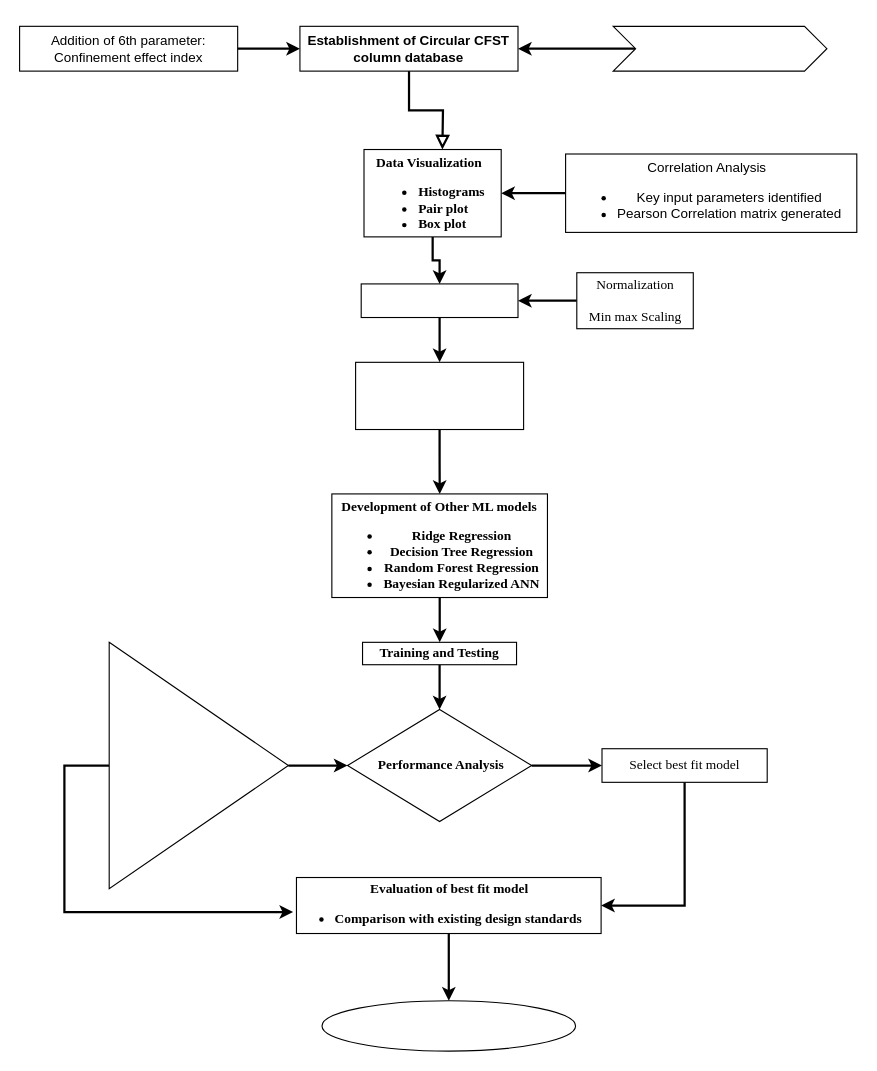
Image size: 877x1071. Some labels were removed from this diagram. Here are the shapes that lost their labels. From the top down, the centre of each, then its label:
the point at 719,48: 1202 samples collected 5 input parameters
the point at 439,300: Database Pre processing
the point at 439,395: Naive model created Linear Regression model
the point at 198,765: Evaluation indices RMSE R2 score Residual plots
the point at 448,1025: Develop equation based on best fit model
